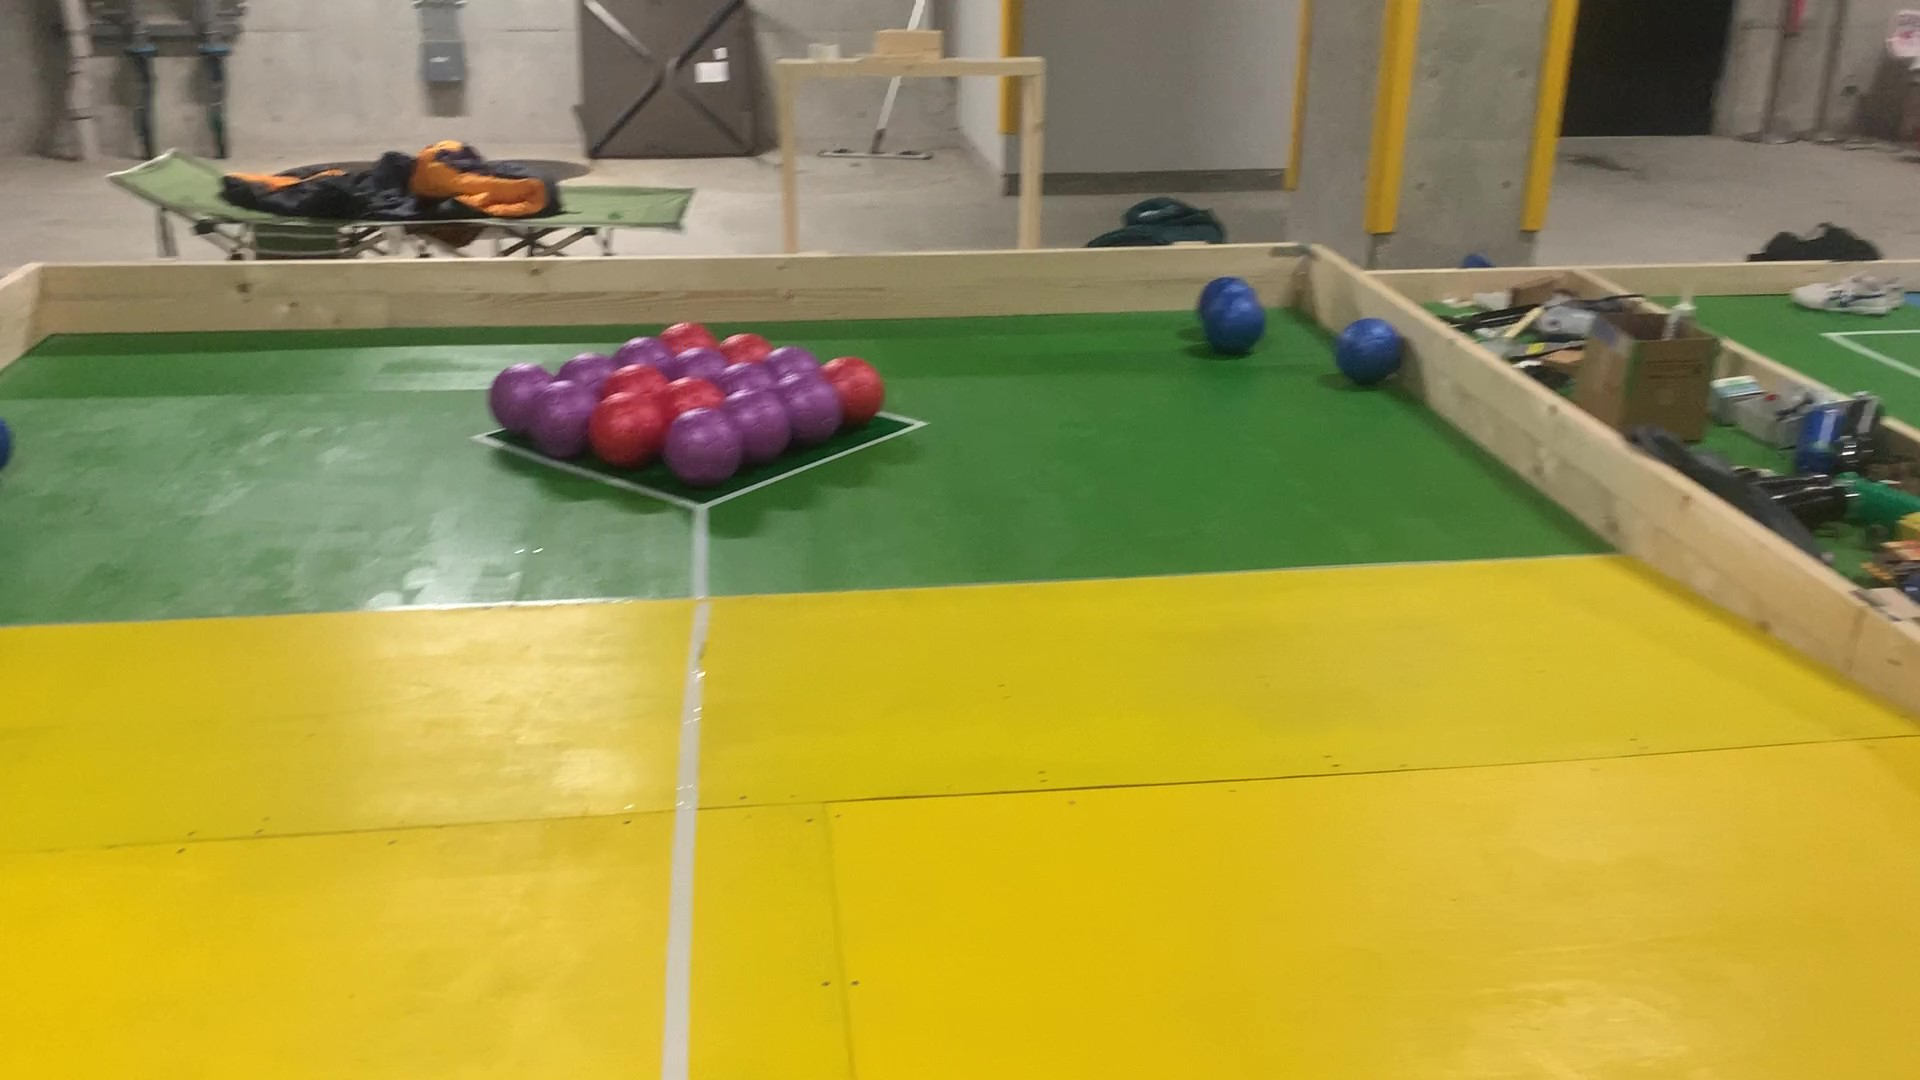blue: (1332, 311, 1404, 382), (1208, 298, 1266, 353), (1, 406, 20, 468), (1215, 277, 1250, 293)
purple: (736, 396, 791, 460), (673, 422, 733, 477), (787, 373, 843, 433), (541, 388, 589, 448), (491, 368, 524, 436), (562, 353, 613, 382), (770, 347, 815, 373), (624, 344, 669, 367), (733, 368, 774, 390), (676, 352, 716, 375)
red: (595, 398, 653, 458), (844, 352, 882, 426), (612, 368, 663, 392), (673, 384, 716, 410), (724, 336, 765, 361), (670, 326, 708, 344)
